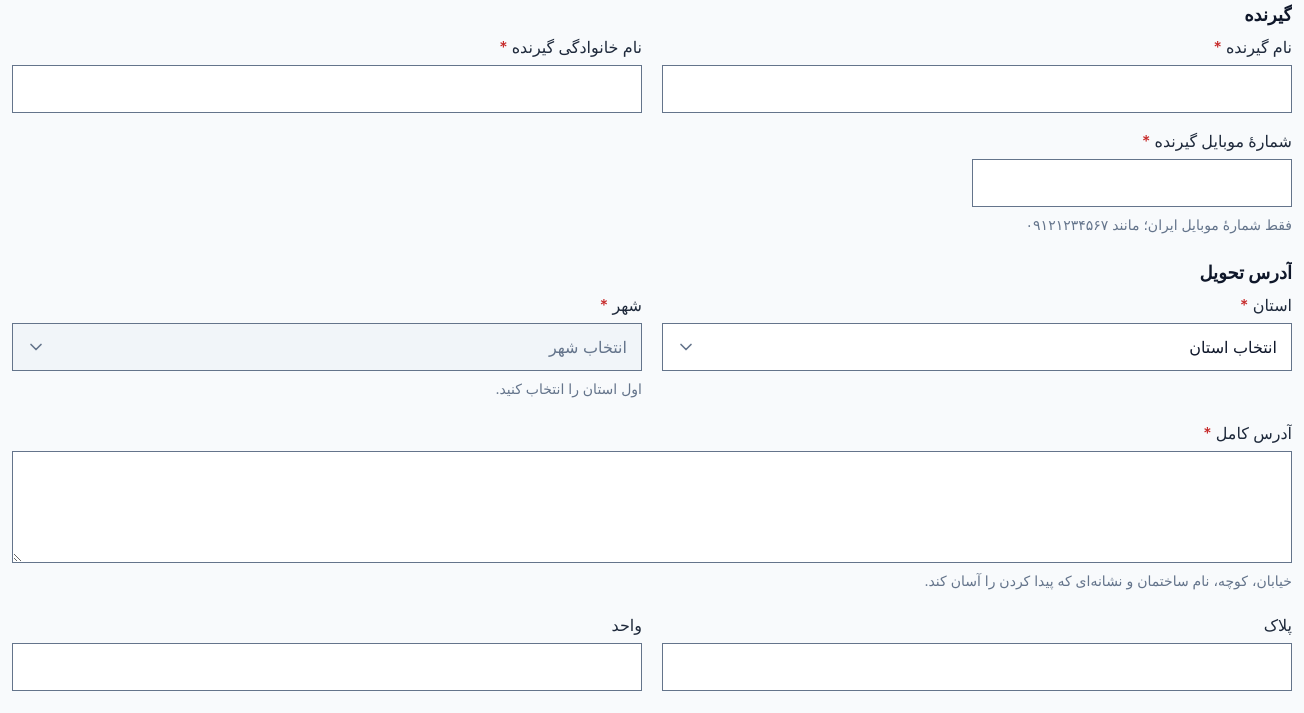
ReceiverSection, guest › a throttled destination (429): said calmly, «ادامه» waits out `retry_after`
The image size is (1304, 713).
Select "تهران" in the dropdown labelled "استان *": (977, 347) [662,323,1292,371]
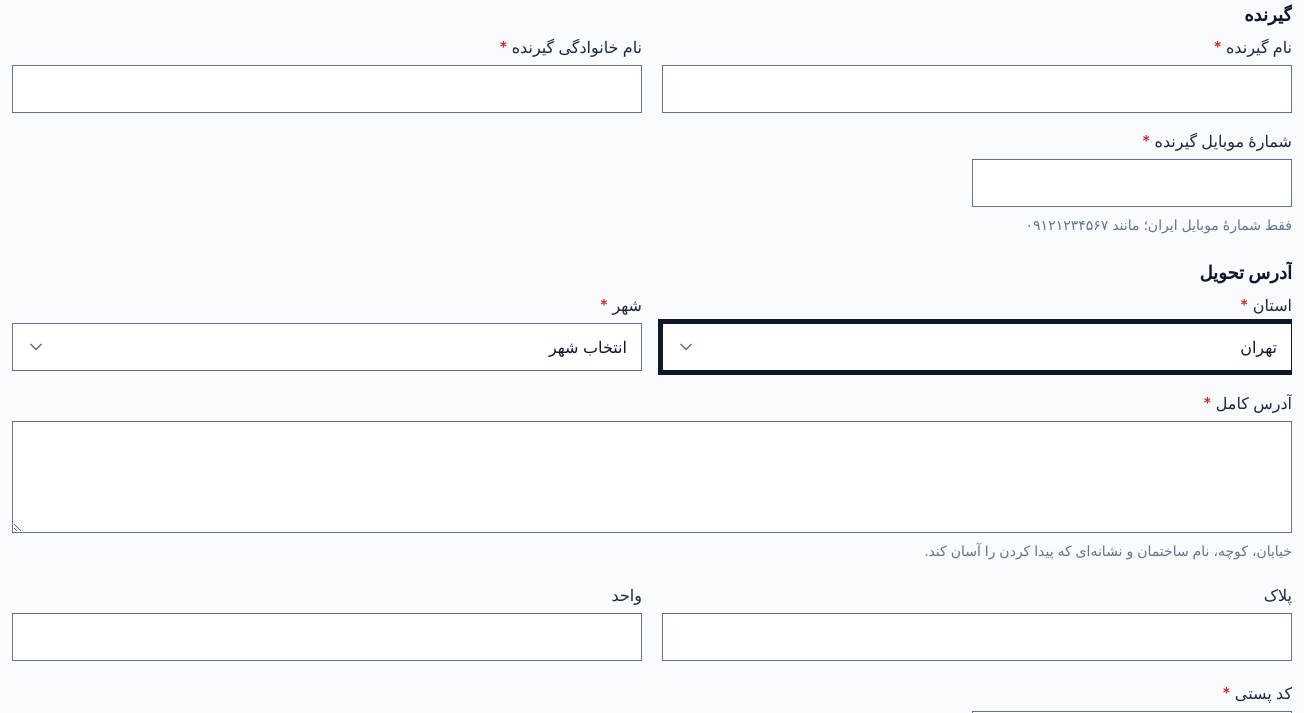
Select "تهران" in the dropdown labelled "شهر *": (327, 347) [12,323,642,371]
(page scrolled)
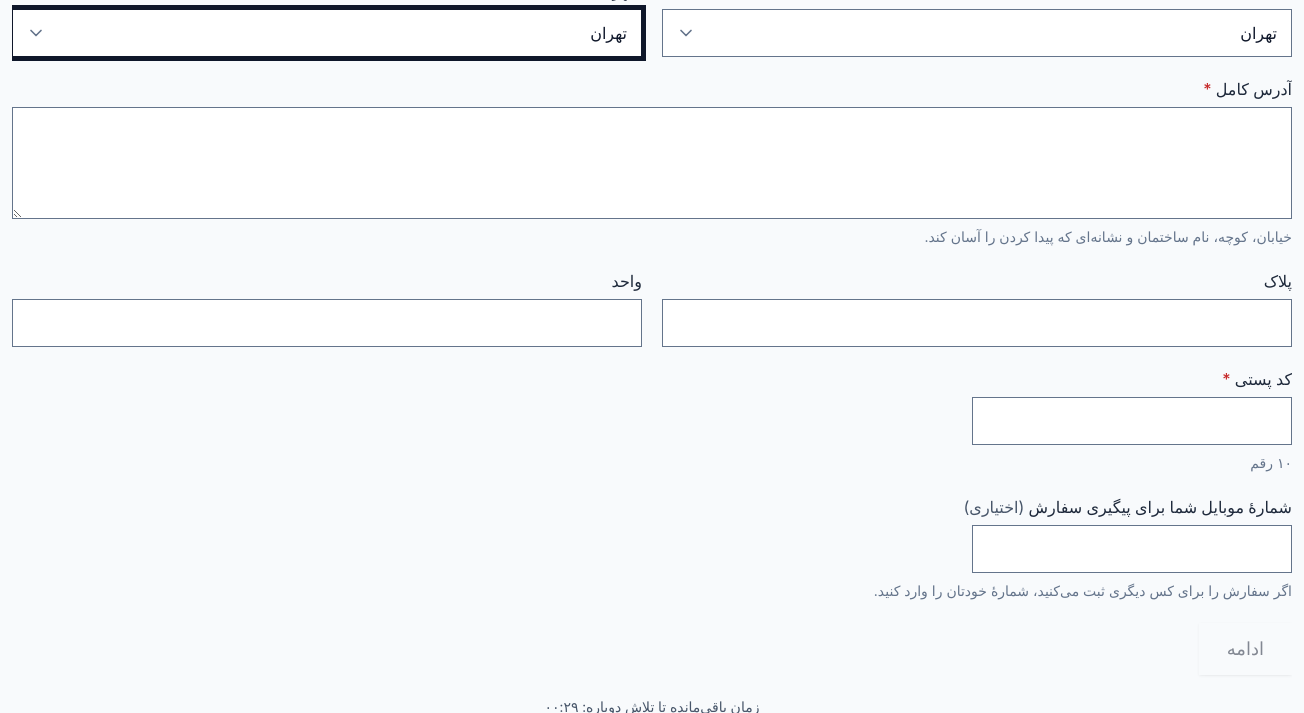
Now the button "ادامه" is disabled, box [1199,623,1292,675]
